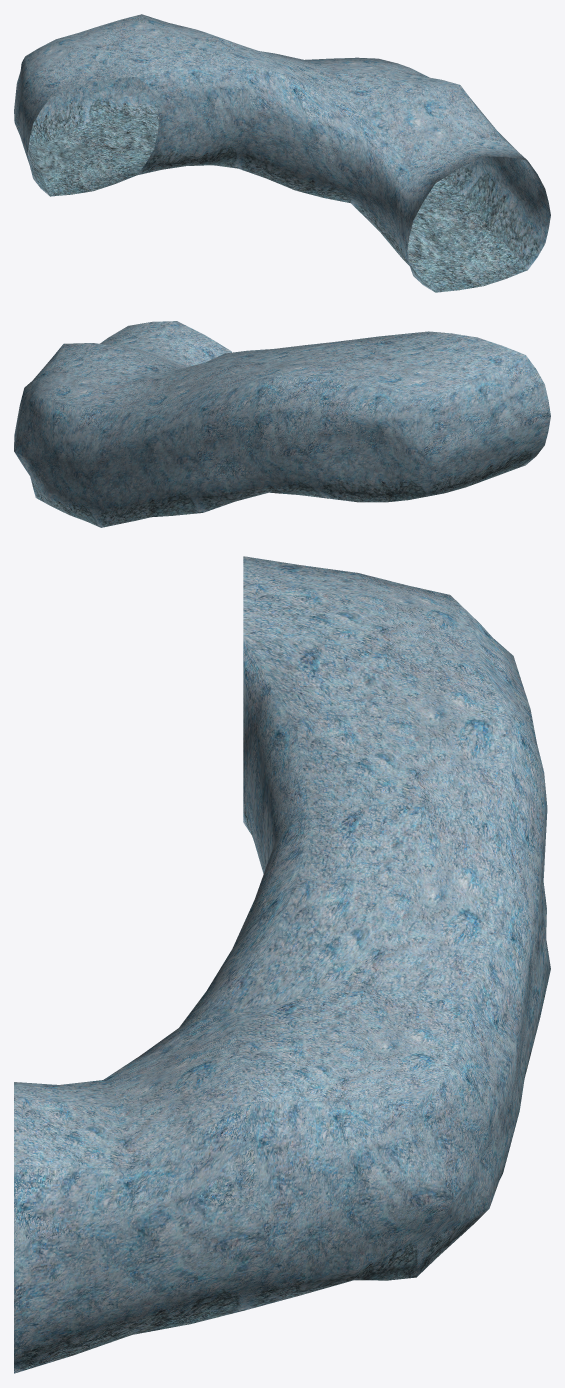
File: thm_all_cave_s03_ice_r24_r24.fbx
3 renders of one model, top to bottom at view 1: azimuth 30°, elevation 25°; view 2: azimuth 150°, elevation 25°; view 3: azimuth 270°, elevation 25°, orthographic. The views are drawn at different scales.
Parts seen in each view (by area): view 1: mesh_node; view 2: mesh_node; view 3: mesh_node.
Boxes of the visible parts, x1,y1,x2,y2 form: mesh_node: (14, 14, 550, 292); mesh_node: (14, 321, 550, 527); mesh_node: (14, 556, 550, 1373).
Size of the model in its own units: 35.17 by 17.46 by 18.73.
